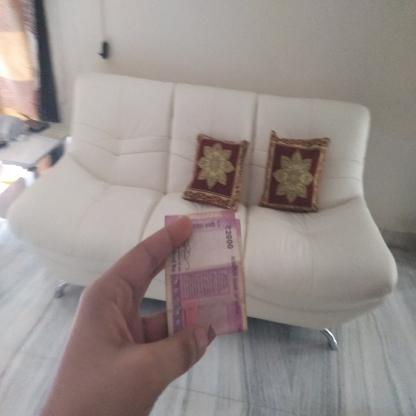New2000Back: (168, 213, 242, 339)
